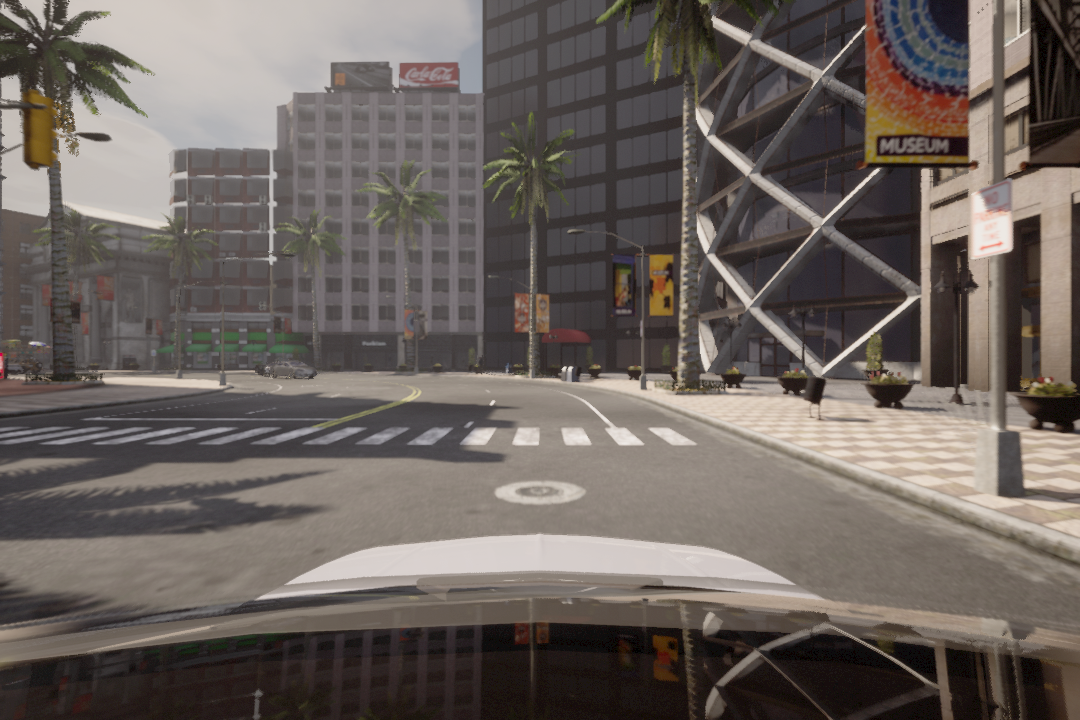walkside: (14, 417, 725, 456)
